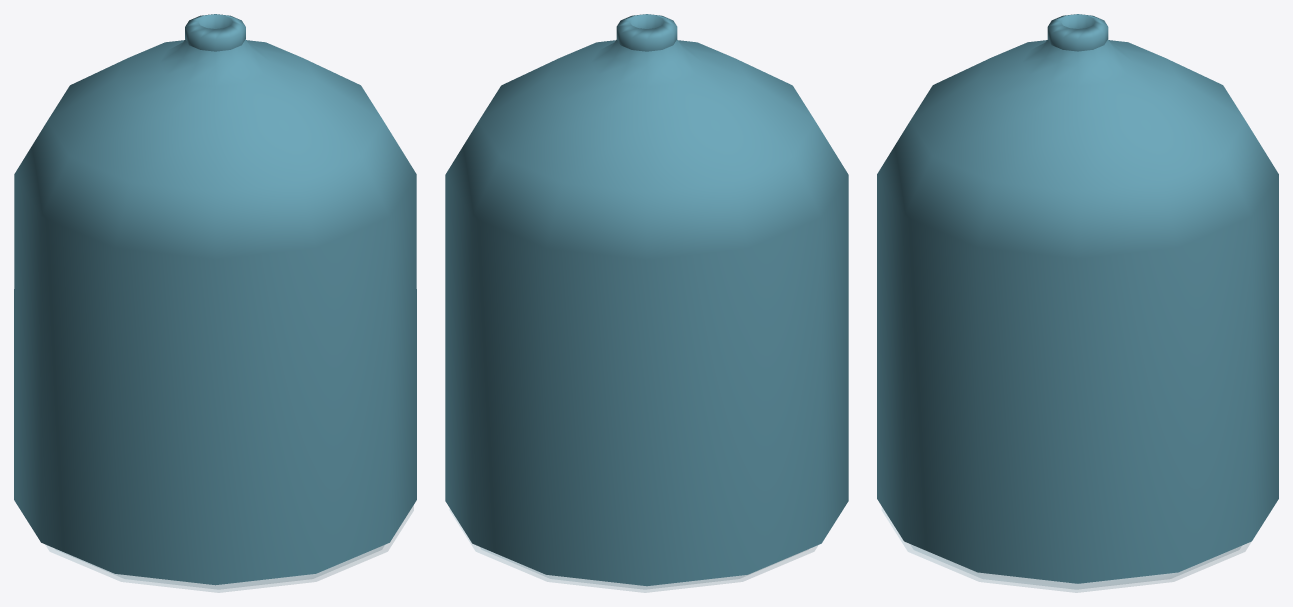
Rendered from breath box1.fbx.
3 views of the same model, side by side, from view 1: azimuth 30°, elevation 25°; view 2: azimuth 150°, elevation 25°; view 3: azimuth 270°, elevation 25° (orthographic).
Visible parts, largest first — view 1: GLASS2, GLASS_CUP1; view 2: GLASS2, GLASS_CUP1; view 3: GLASS2, GLASS_CUP1.
Part boxes in pixels (x1,y1,x2,y2): GLASS2: (14, 14, 416, 585); GLASS_CUP1: (46, 506, 413, 592); GLASS2: (445, 14, 848, 586); GLASS_CUP1: (450, 510, 817, 592); GLASS2: (877, 14, 1278, 583); GLASS_CUP1: (882, 508, 1250, 592).
Size of the model in its own units: 133 by 191 by 133.
